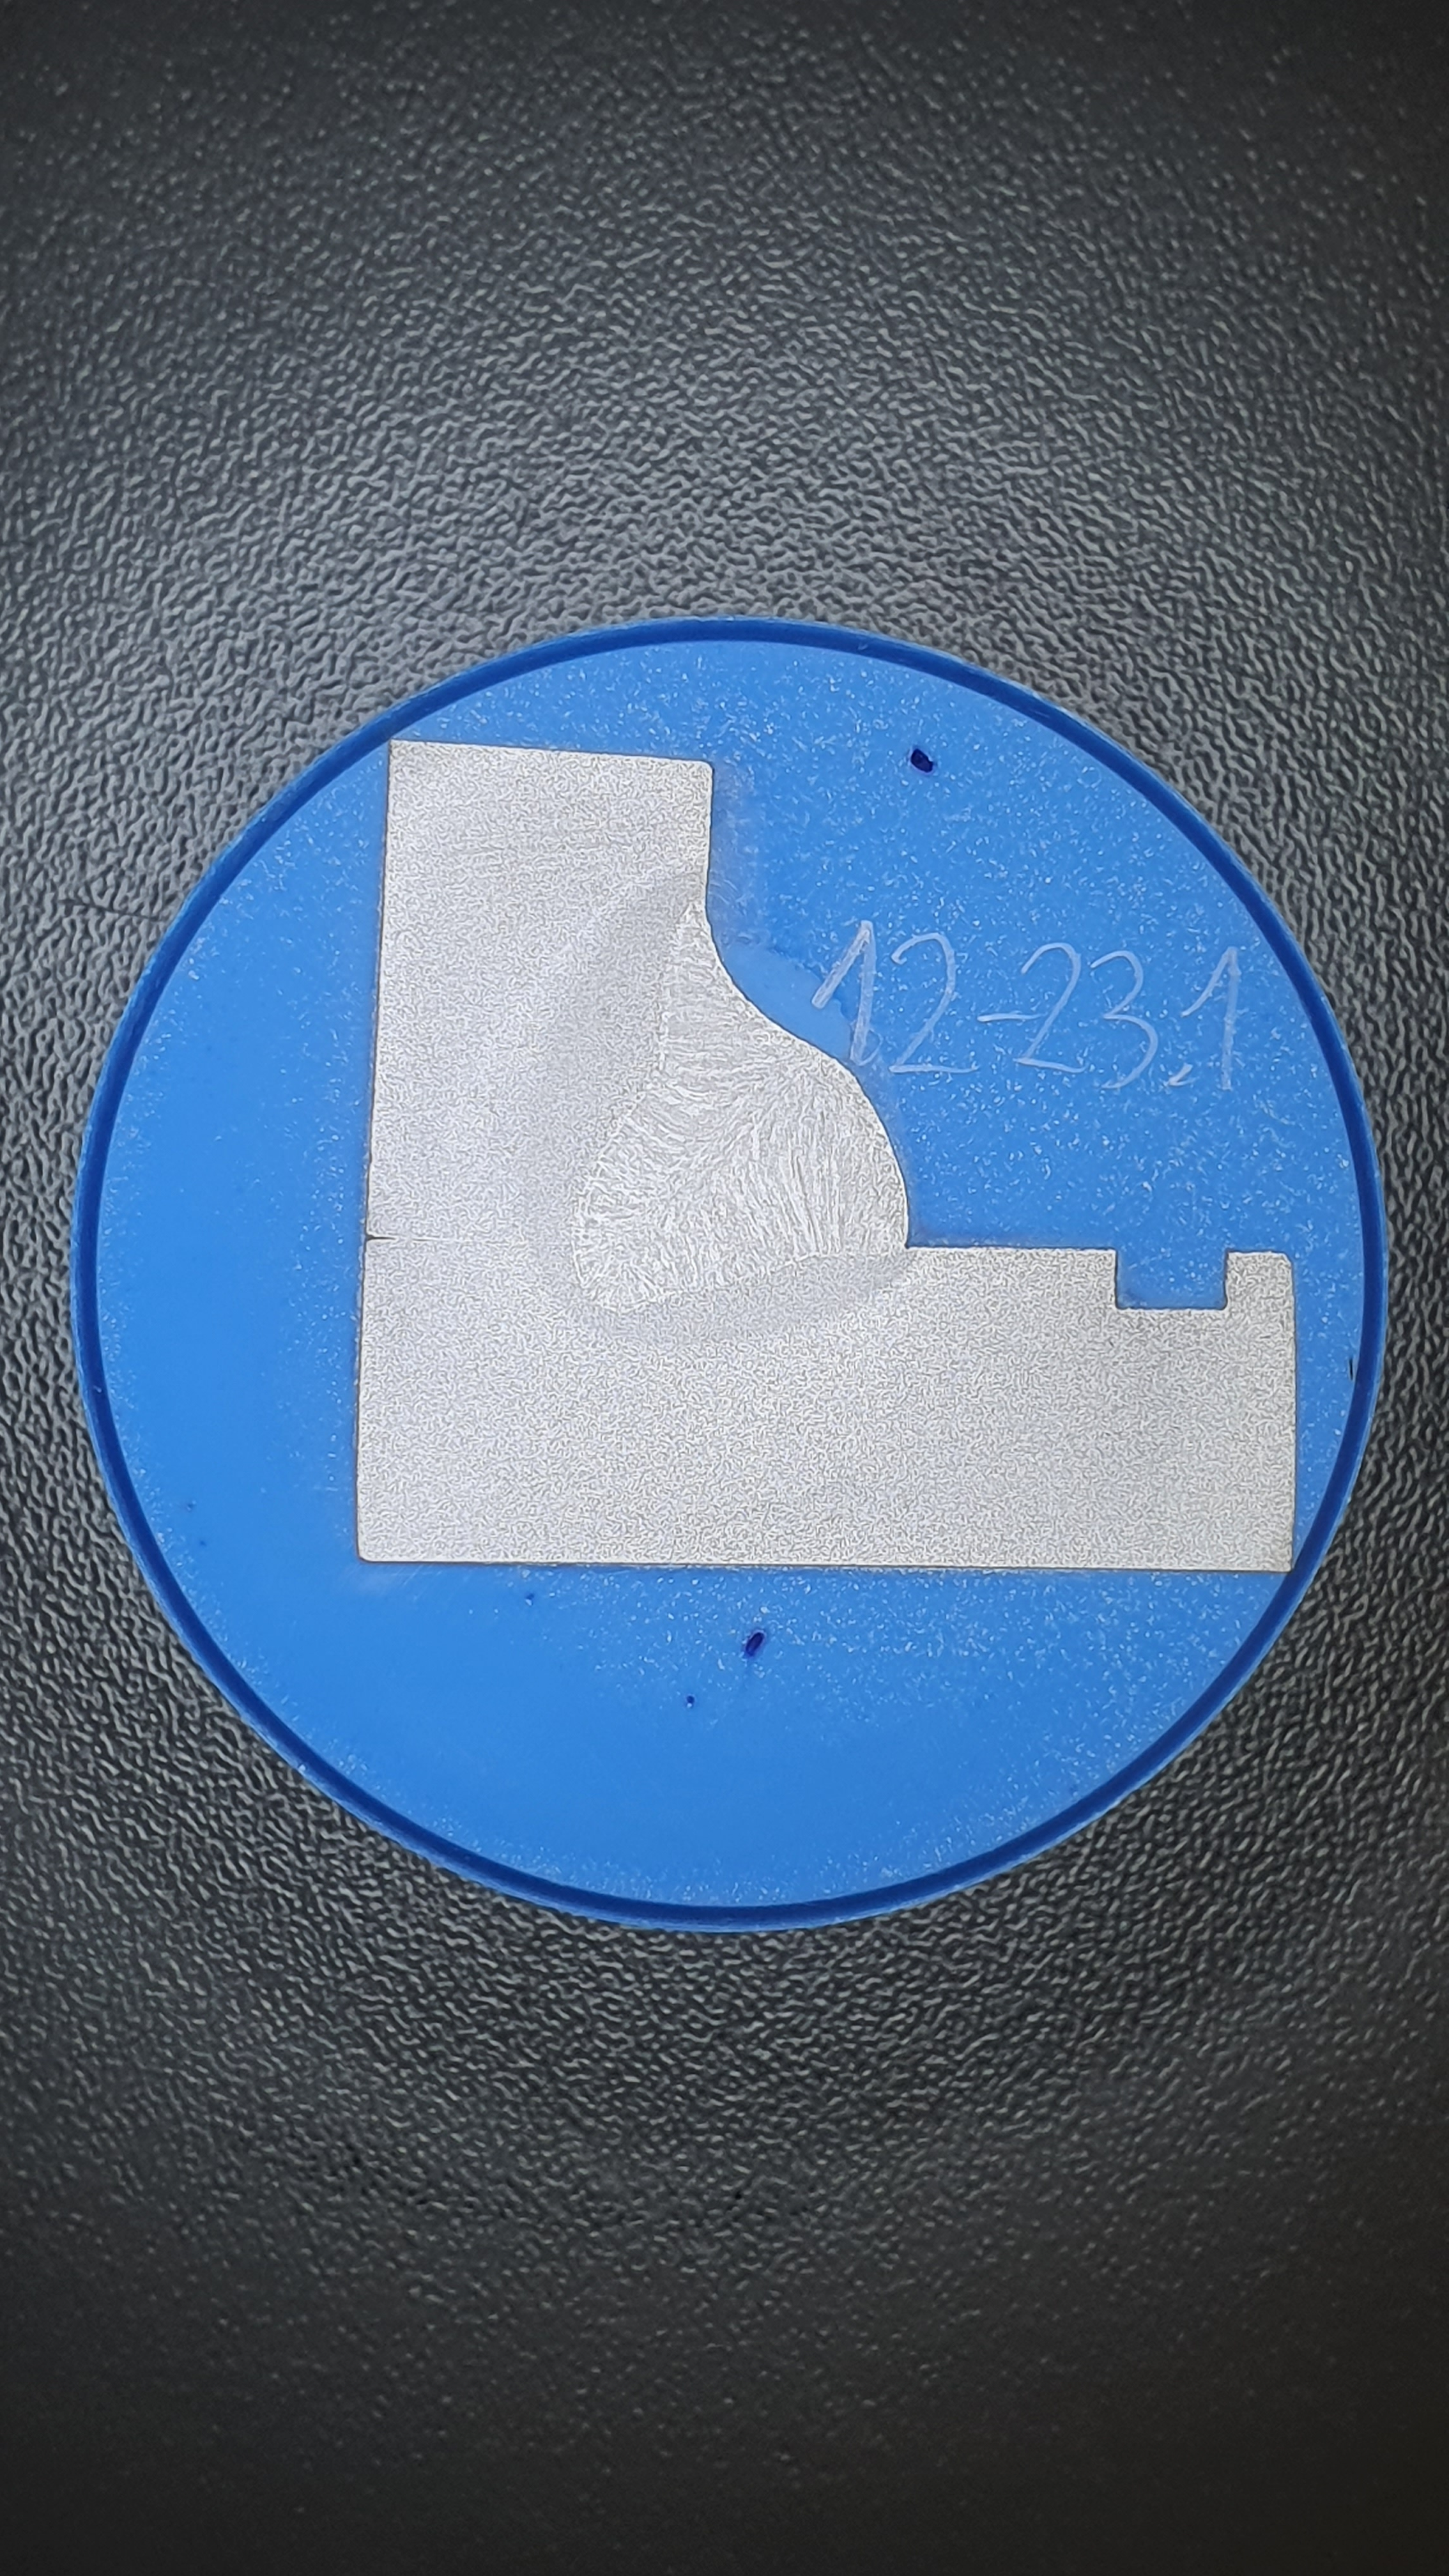Fusion: (573, 897, 908, 1309)
Hintergrund: (97, 639, 1366, 1905)
Metall: (356, 738, 1297, 1573)
Nebenbereich: (518, 853, 918, 1352)
